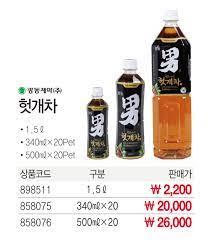heotgaecha: (115, 58, 146, 160)
